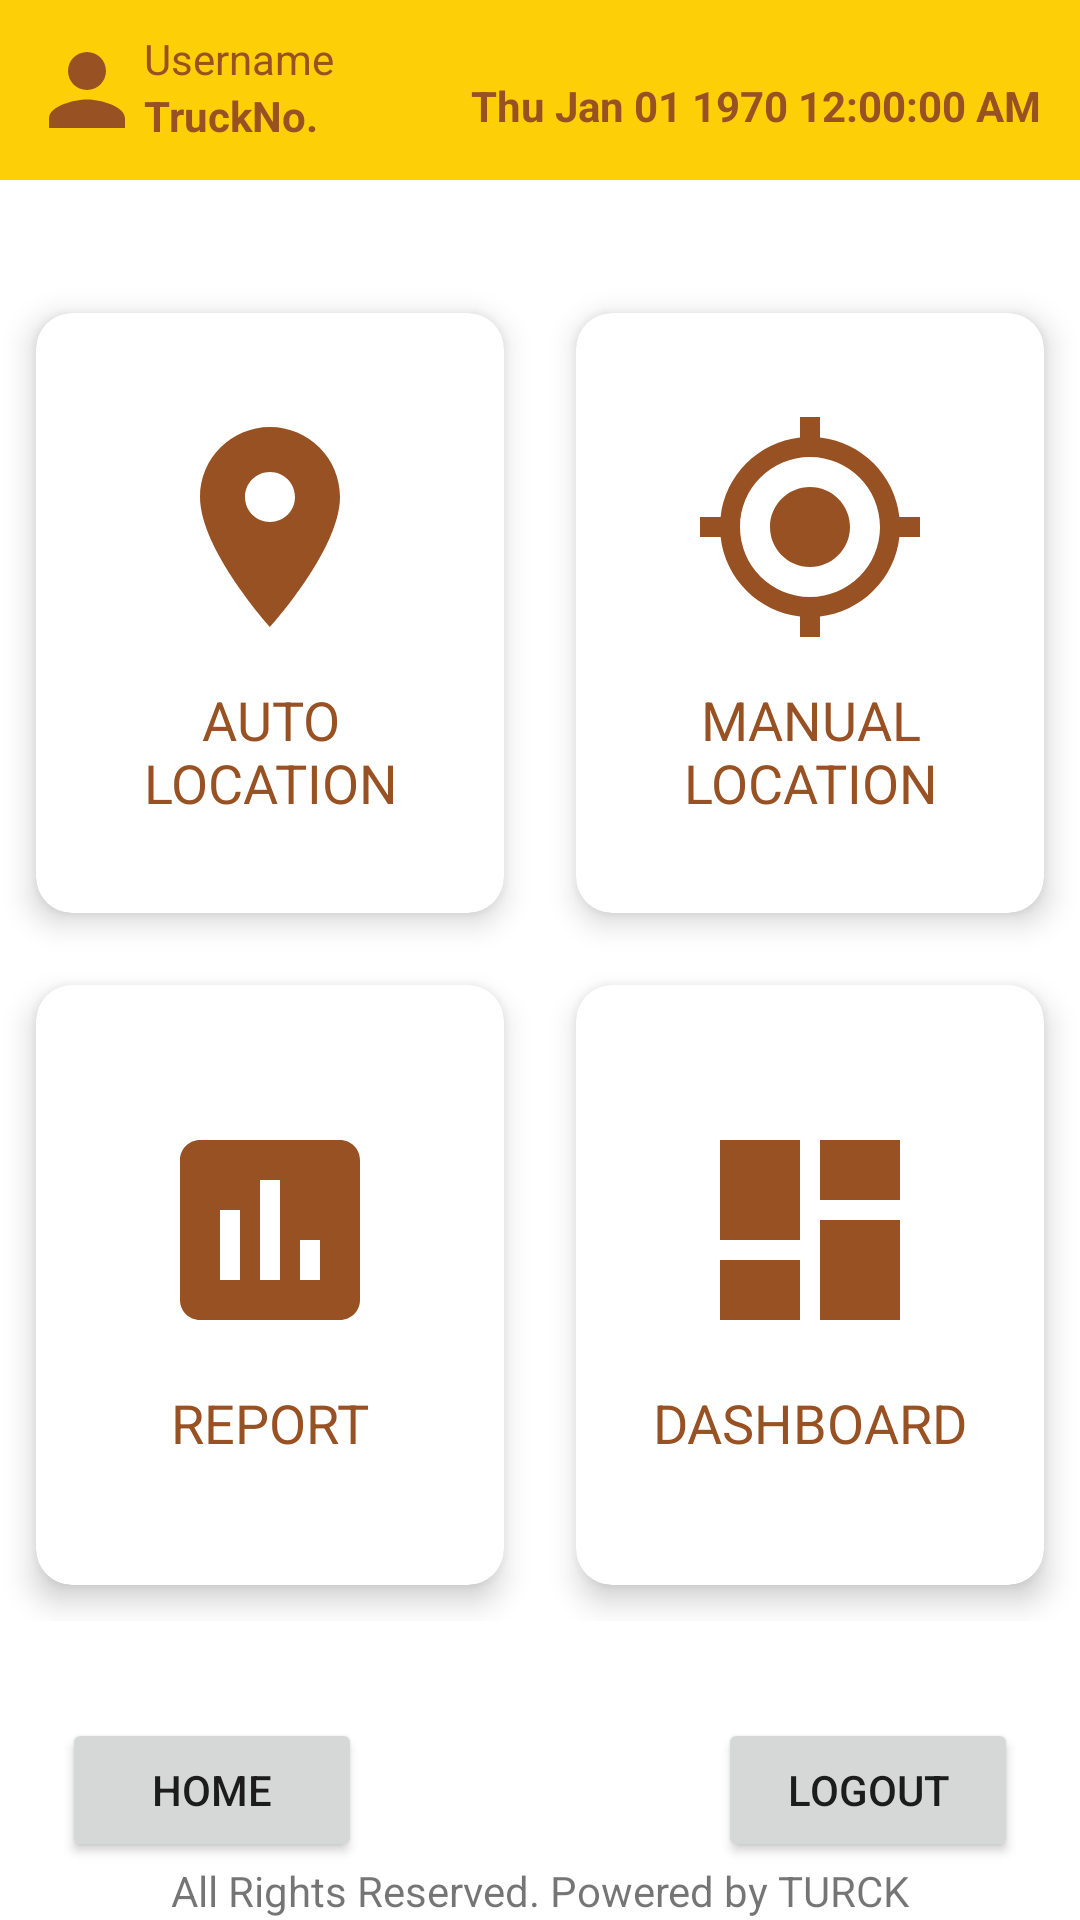

Icons on this 1080 x 1920 Android screen, each with the point to tap as (x,y):
location on: (270,527)
person: (87,90)
